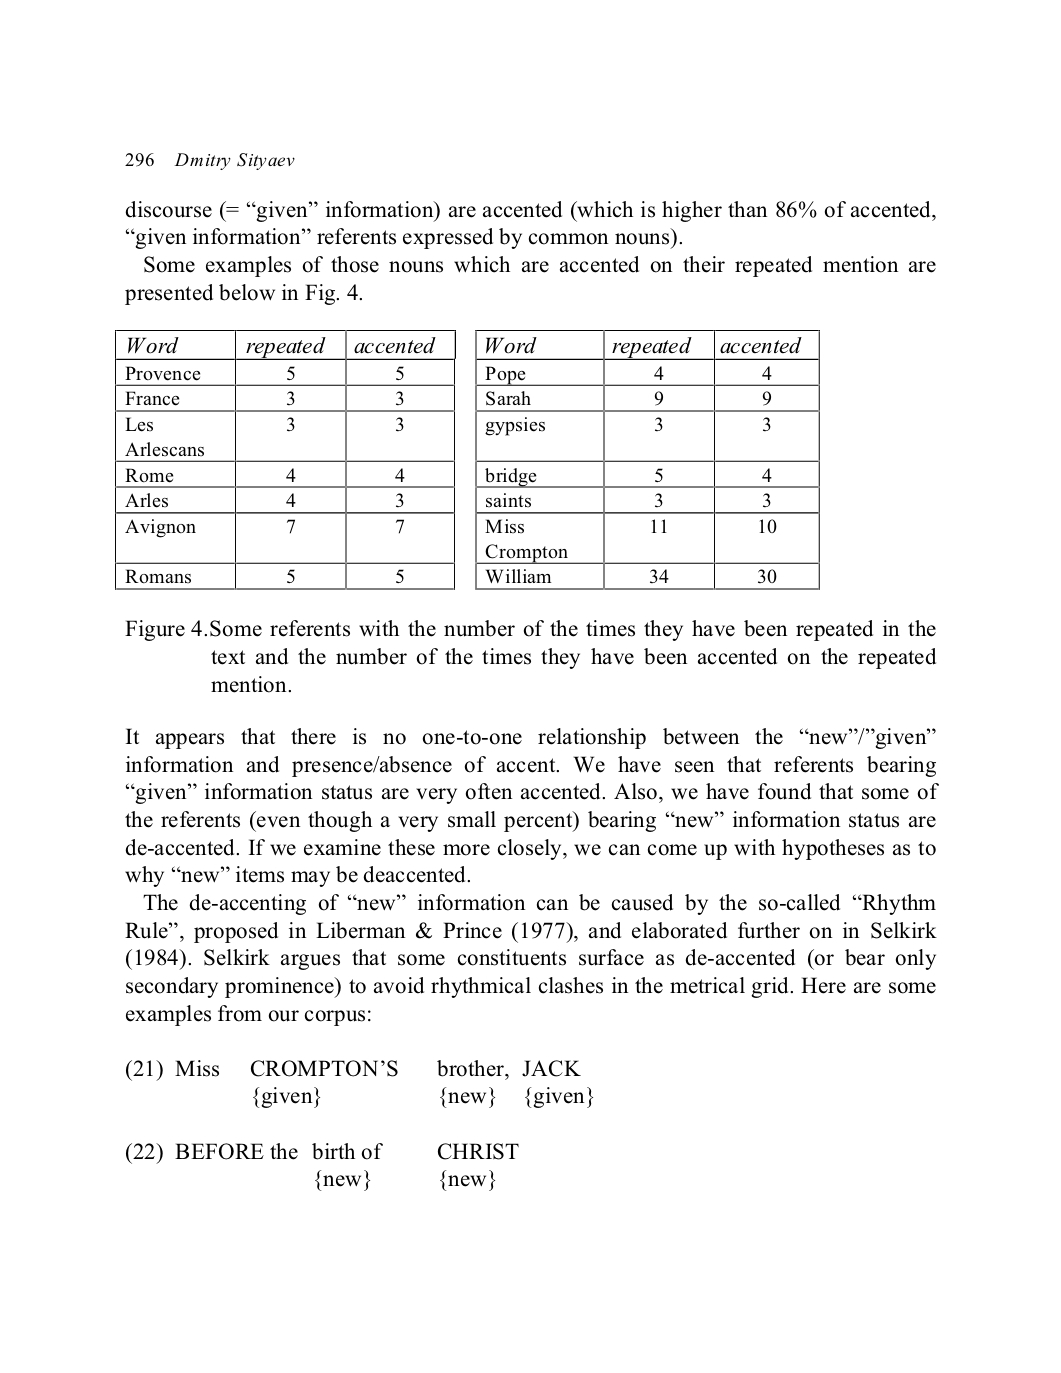Table: (475, 330, 819, 590), (115, 330, 455, 590)
